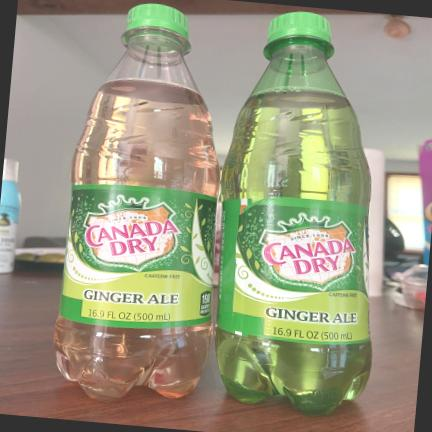container: (53, 45, 218, 397), (220, 37, 371, 412)
fluid: (54, 92, 218, 397), (223, 105, 371, 409)
fluid-surface: (99, 80, 206, 106), (246, 91, 350, 108)
